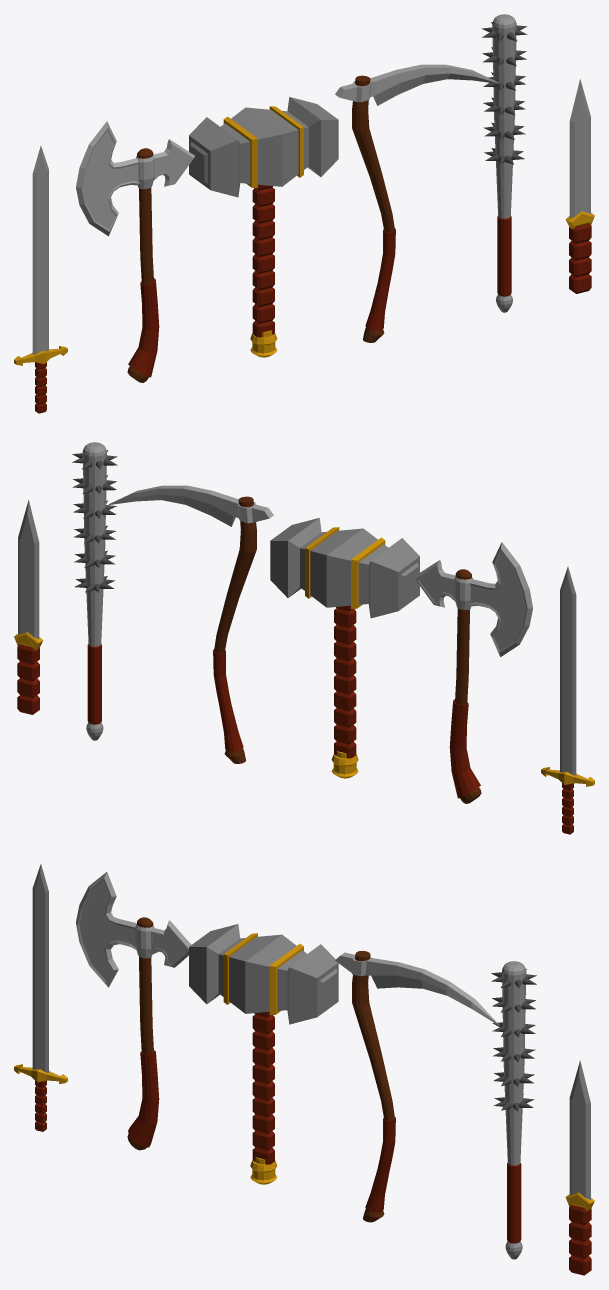
The model's file is uploads_files_3774240_Meele_Weapons.fbx.
3 views of the same model, one above another, from view 1: azimuth 30°, elevation 25°; view 2: azimuth 150°, elevation 25°; view 3: azimuth 330°, elevation 25° (orthographic).
Parts seen in each view (by area): view 1: Hammer, Axe, scythe, Spiky Bat, Sword, knife; view 2: Hammer, Axe, Spiky Bat, scythe, Sword, knife; view 3: Hammer, Axe, scythe, Spiky Bat, Sword, knife.
Boxes of the visible parts, x1,y1,x2,y2 form: Hammer: (189, 97, 338, 357); Axe: (76, 121, 194, 382); scythe: (335, 64, 500, 342); Spiky Bat: (482, 14, 527, 312); Sword: (14, 145, 67, 413); knife: (565, 79, 594, 293); Hammer: (270, 518, 419, 778); Axe: (414, 542, 532, 803); Spiky Bat: (72, 442, 117, 740); scythe: (108, 485, 273, 763); Sword: (541, 566, 594, 834); knife: (14, 500, 43, 714); Hammer: (189, 924, 338, 1184); Axe: (76, 872, 191, 1150); scythe: (335, 951, 500, 1222); Spiky Bat: (491, 961, 536, 1259); Sword: (14, 864, 67, 1131); knife: (565, 1060, 594, 1275).
Bounding box in the file's own units: 2187 × 1064 × 241.
